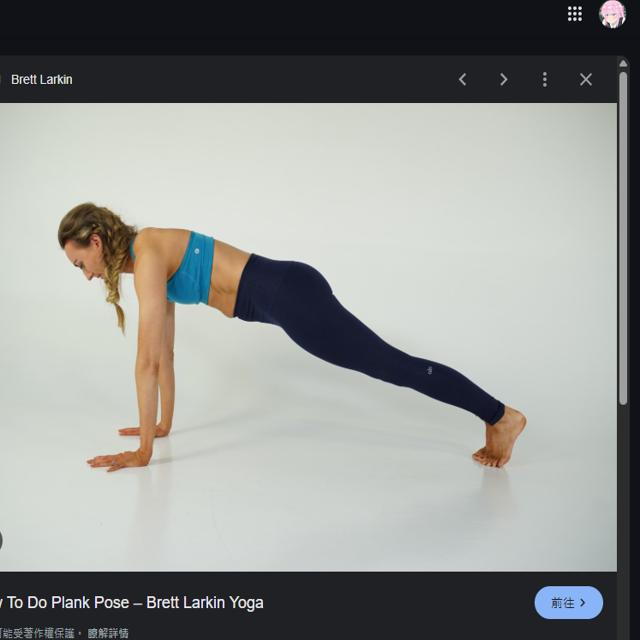Plank_Pose: (41, 192, 535, 482)
